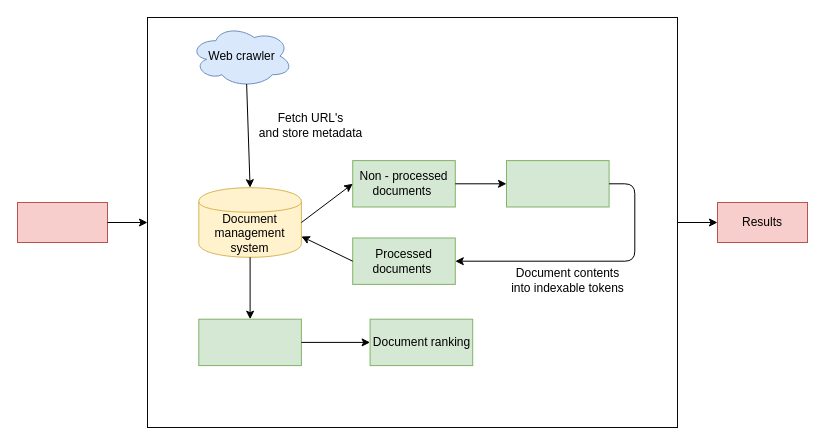
The diagram is 825 pixels wide and 445 high, and some of its shapes have lost their labels. The centre of each missing label's shape, as x and y in pixels:
"Document pre-processing" belongs at (x=557, y=183).
"Inverted indexing" belongs at (x=249, y=342).
"Search query" belongs at (x=62, y=222).
